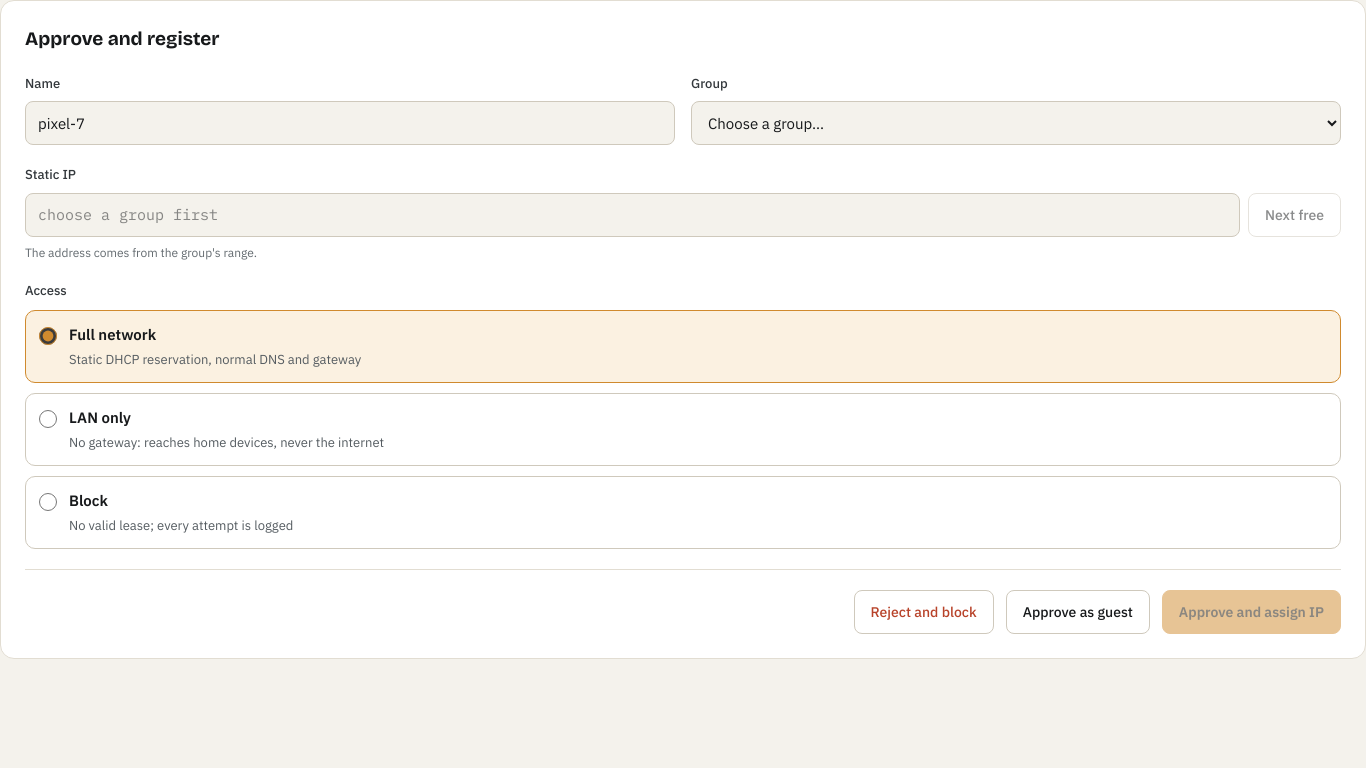
ApproveForm › sends no expiry when the guest keeps the default
What coordinates should you click on to do the following:
click the button "Approve as guest"
I would click on:
 (1078, 612)
Its box is [1006,590,1150,634].
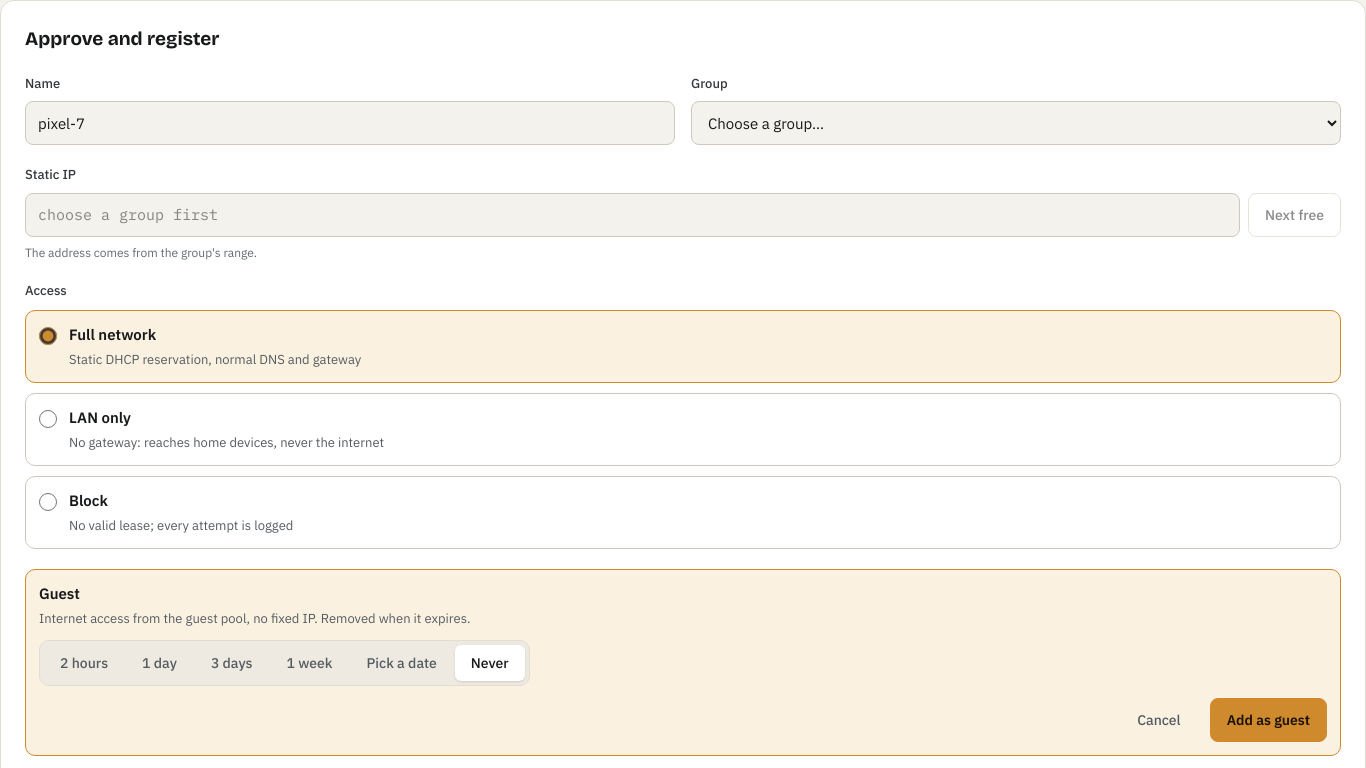
What coordinates should you click on to do the following:
click the button "Never"
I would click on:
 (490, 663)
Its box is [455,645,525,681].
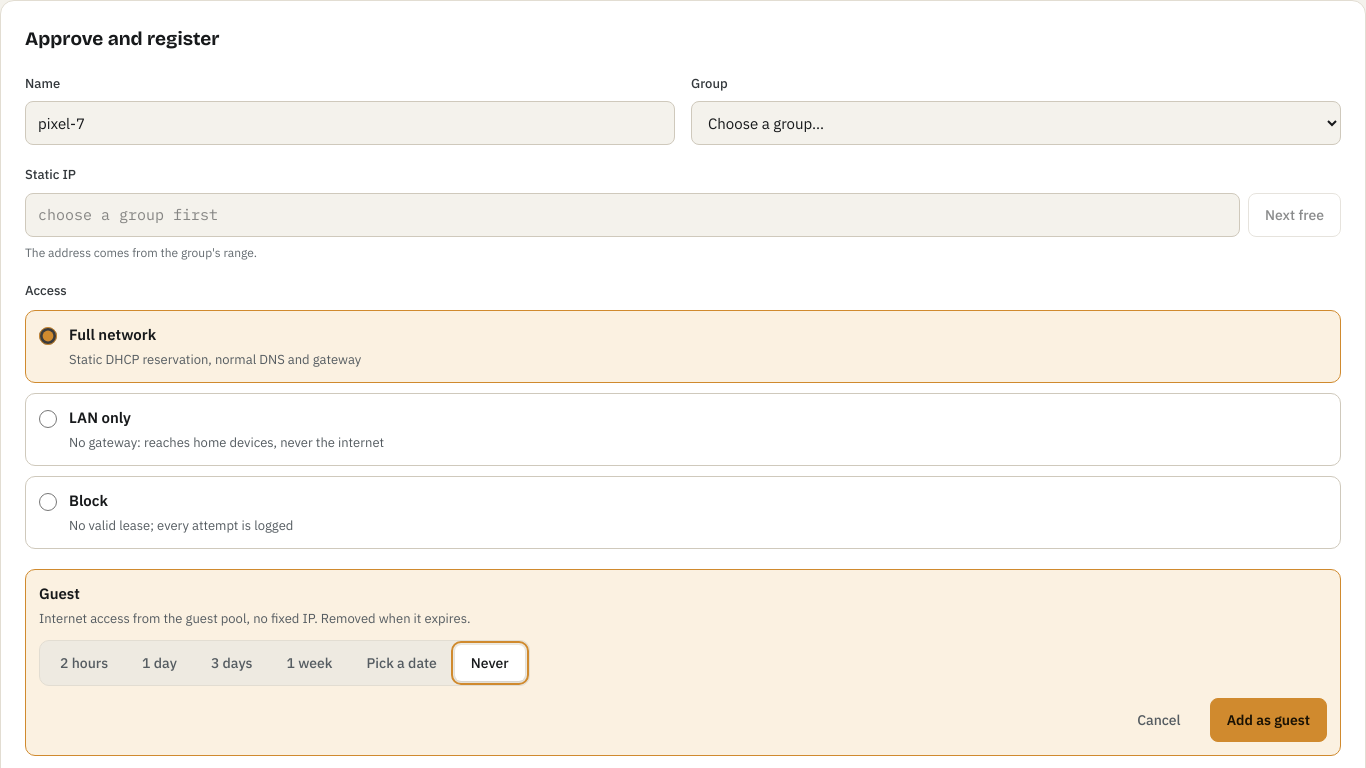
What coordinates should you click on to do the following:
click the button "Add as guest"
I would click on:
 (1268, 720)
Its box is [1210,698,1327,742].
(page scrolled)
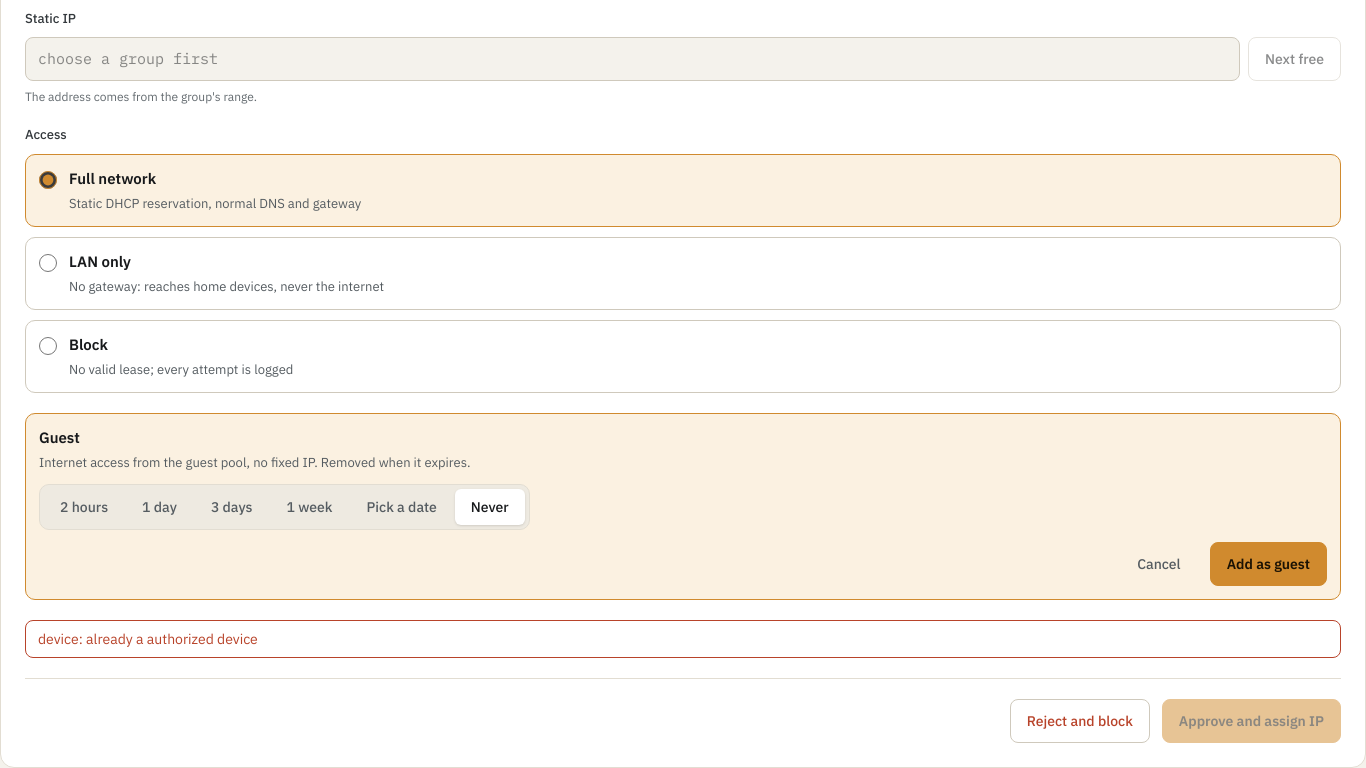
Expected: the message reads "device: already a authorized device", [38,630,258,648]
